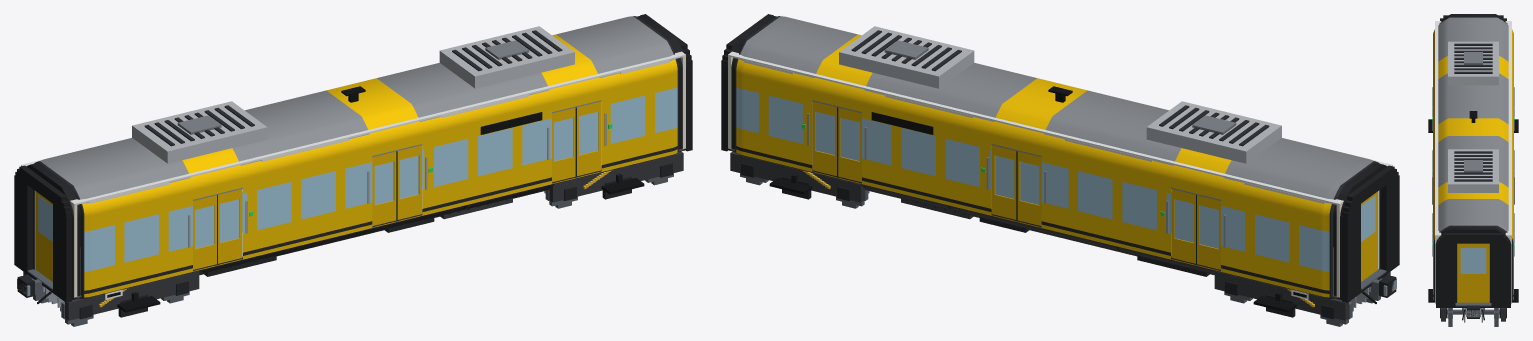
File: ginza1000_car.obj
3 views of the same model, side by side, from view 1: azimuth 30°, elevation 25°; view 2: azimuth 150°, elevation 25°; view 3: azimuth 270°, elevation 25° (orthographic). The views are drawn at different scales.
Parts seen in each view (by area): view 1: SHELL, SHELL_roof, SHELL_diaphragm, SHELL_ceiling, BOGEY_FRONT, BOGEY_REAR, EXTERNAL_DOOR_10_CG_DR2_TOGGLE_TL_-0.59_X, EXTERNAL_DOOR_4_CG_DR1_TOGGLE_TL_-0.59_X, EXTERNAL_DOOR_11_CG_DR2_TOGGLE_TL_0.59_X, EXTERNAL_DOOR_16_CG_DR3_TOGGLE_TL_-0.59_X, EXTERNAL_DOOR_5_CG_DR1_TOGGLE_TL_0.59_X, EXTERNAL_DOOR_17_CG_DR3_TOGGLE_TL_0.59_X (+7 smaller); view 2: SHELL, SHELL_roof, SHELL_diaphragm, SHELL_ceiling, BOGEY_FRONT, BOGEY_REAR, EXTERNAL_DOOR_13_CG_DL2_TOGGLE_TL_-0.59_X, EXTERNAL_DOOR_7_CG_DL1_TOGGLE_TL_-0.59_X, EXTERNAL_DOOR_14_CG_DL2_TOGGLE_TL_0.59_X, EXTERNAL_DOOR_19_CG_DL3_TOGGLE_TL_-0.59_X, EXTERNAL_DOOR_8_CG_DL1_TOGGLE_TL_0.59_X, EXTERNAL_DOOR_20_CG_DL3_TOGGLE_TL_0.59_X (+7 smaller); view 3: SHELL, SHELL_roof, SHELL_diaphragm, CONNECTING_DOOR_2_CG_CF_TOGGLE_TL_0.98_Z, SHELL_ceiling, BOGEY_FRONT, BOGEY_FRONT_WHEEL_2, FRAME, SHELL_handle, SHELL_end, SHELL_gangway, BOGEY_REAR (+1 smaller).
Part boxes in pixels (bbox=[...]): SHELL: bbox=[26, 14, 687, 299]; SHELL_roof: bbox=[132, 26, 574, 163]; SHELL_diaphragm: bbox=[14, 14, 692, 302]; SHELL_ceiling: bbox=[23, 16, 683, 204]; BOGEY_FRONT: bbox=[549, 151, 683, 202]; BOGEY_REAR: bbox=[23, 271, 199, 320]; EXTERNAL_DOOR_10_CG_DR2_TOGGLE_TL_-0.59_X: bbox=[372, 151, 397, 225]; EXTERNAL_DOOR_4_CG_DR1_TOGGLE_TL_-0.59_X: bbox=[193, 195, 217, 269]; EXTERNAL_DOOR_11_CG_DR2_TOGGLE_TL_0.59_X: bbox=[397, 145, 421, 219]; EXTERNAL_DOOR_16_CG_DR3_TOGGLE_TL_-0.59_X: bbox=[552, 107, 576, 182]; EXTERNAL_DOOR_5_CG_DR1_TOGGLE_TL_0.59_X: bbox=[218, 189, 242, 263]; EXTERNAL_DOOR_17_CG_DR3_TOGGLE_TL_0.59_X: bbox=[577, 101, 601, 176]; SHELL: bbox=[726, 14, 1387, 299]; SHELL_roof: bbox=[839, 26, 1281, 163]; SHELL_diaphragm: bbox=[721, 14, 1399, 302]; SHELL_ceiling: bbox=[730, 16, 1390, 204]; BOGEY_FRONT: bbox=[730, 151, 864, 202]; BOGEY_REAR: bbox=[1214, 271, 1390, 320]; EXTERNAL_DOOR_13_CG_DL2_TOGGLE_TL_-0.59_X: bbox=[1016, 151, 1041, 225]; EXTERNAL_DOOR_7_CG_DL1_TOGGLE_TL_-0.59_X: bbox=[1196, 195, 1220, 269]; EXTERNAL_DOOR_14_CG_DL2_TOGGLE_TL_0.59_X: bbox=[992, 145, 1016, 219]; EXTERNAL_DOOR_19_CG_DL3_TOGGLE_TL_-0.59_X: bbox=[837, 107, 861, 182]; EXTERNAL_DOOR_8_CG_DL1_TOGGLE_TL_0.59_X: bbox=[1171, 189, 1195, 263]; EXTERNAL_DOOR_20_CG_DL3_TOGGLE_TL_0.59_X: bbox=[812, 101, 836, 176]; SHELL: bbox=[1433, 14, 1513, 303]; SHELL_roof: bbox=[1448, 41, 1498, 192]; SHELL_diaphragm: bbox=[1436, 15, 1510, 307]; CONNECTING_DOOR_2_CG_CF_TOGGLE_TL_0.98_Z: bbox=[1457, 243, 1489, 302]; SHELL_ceiling: bbox=[1435, 21, 1511, 234]; BOGEY_FRONT: bbox=[1428, 289, 1518, 321]; BOGEY_FRONT_WHEEL_2: bbox=[1447, 308, 1499, 326]; FRAME: bbox=[1462, 305, 1484, 320]; SHELL_handle: bbox=[1432, 87, 1514, 256]; SHELL_end: bbox=[1435, 21, 1511, 302]; SHELL_gangway: bbox=[1455, 301, 1491, 305]; BOGEY_REAR: bbox=[1428, 119, 1518, 132].
Size of the model in its own units: 17.24 by 3.86 by 2.84.
1 material, 1 textured.
